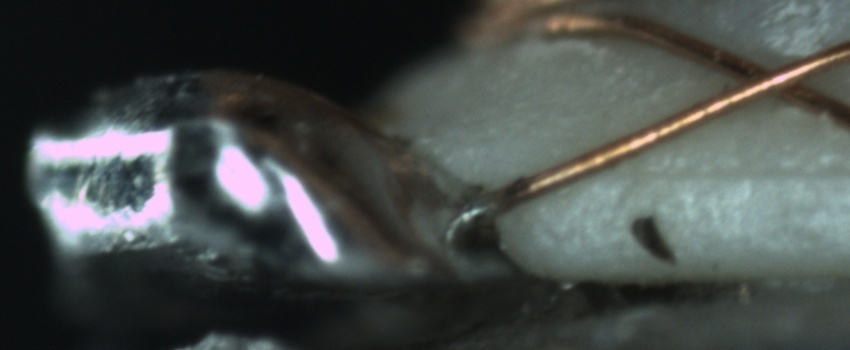CL: (705, 42, 835, 110)
DL: (608, 140, 848, 210)
